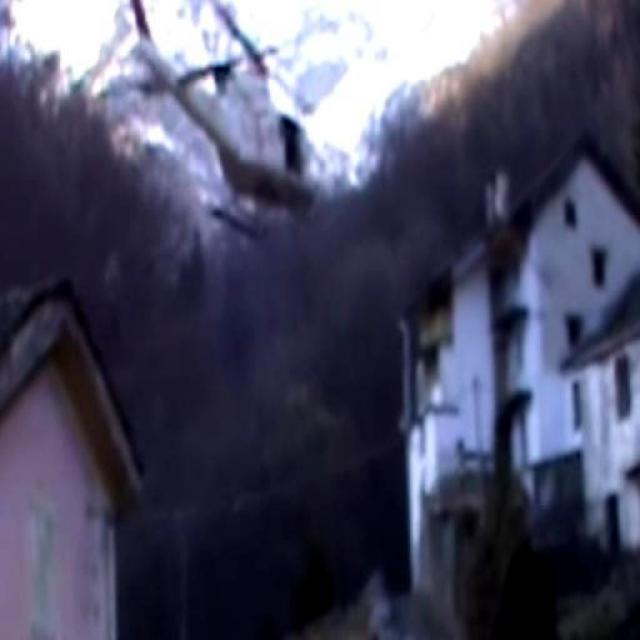drone: (118, 0, 344, 215)
